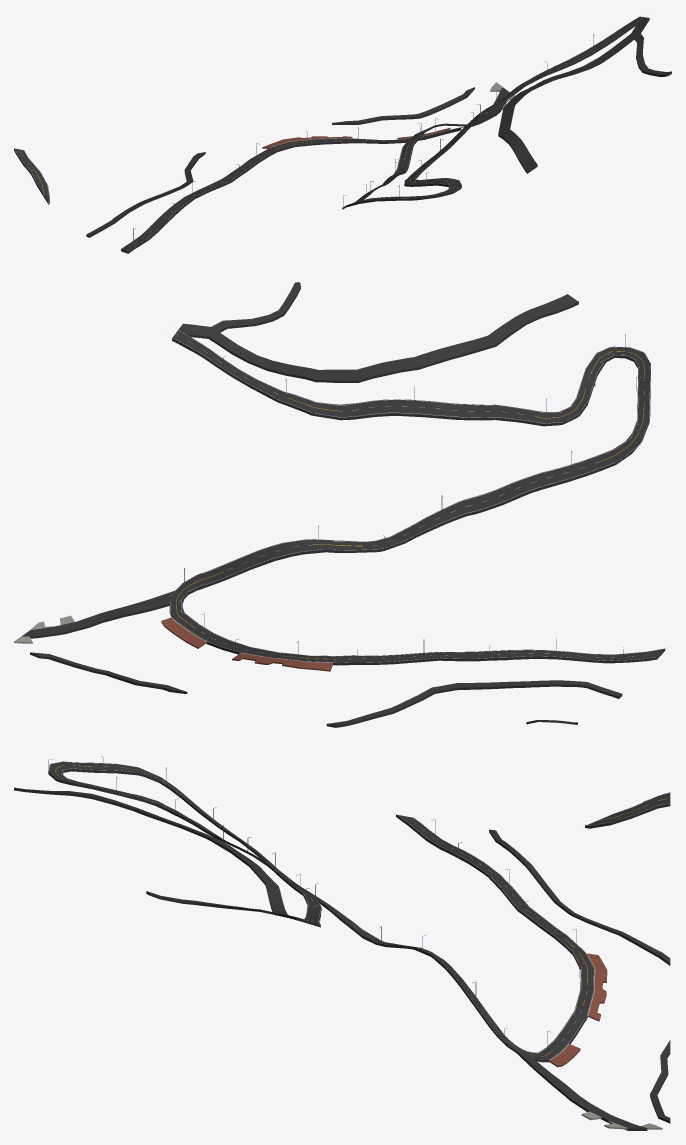
3 views of the same model, one above another, from view 1: azimuth 30°, elevation 25°; view 2: azimuth 150°, elevation 25°; view 3: azimuth 270°, elevation 25° (orthographic). The views are drawn at different scales.
Bounding box in the file's own units: 299 × 112 × 292.
